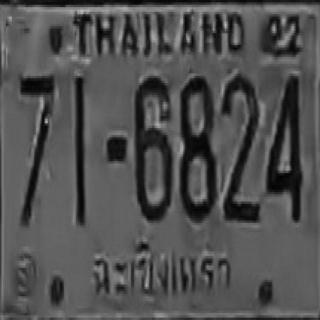N01: (74, 73, 86, 225)
N02: (221, 74, 258, 223)
N04: (266, 74, 301, 220)
N06: (134, 75, 173, 219)
N07: (19, 73, 54, 225)
N08: (179, 75, 216, 219)
P07: (89, 237, 238, 296)
